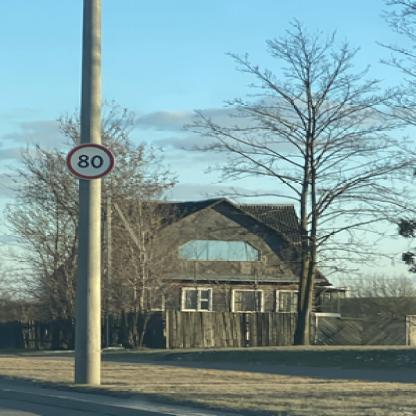speedlimit: (64, 142, 112, 178)
